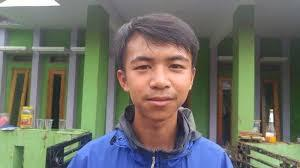Awake: (108, 11, 205, 131)
